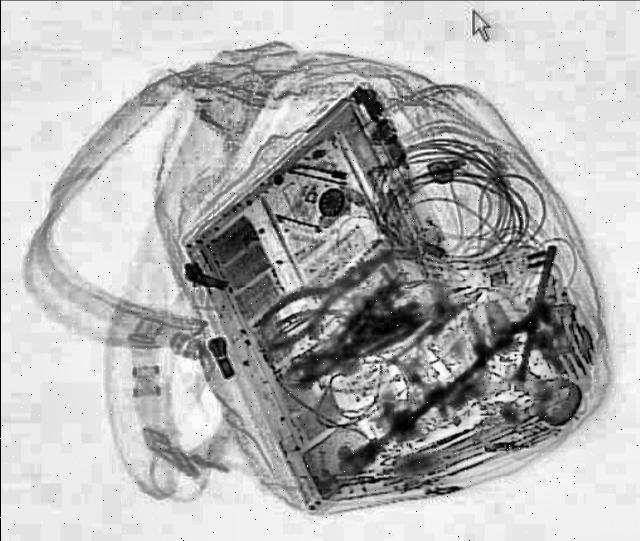Pliers: (242, 240, 398, 352)
